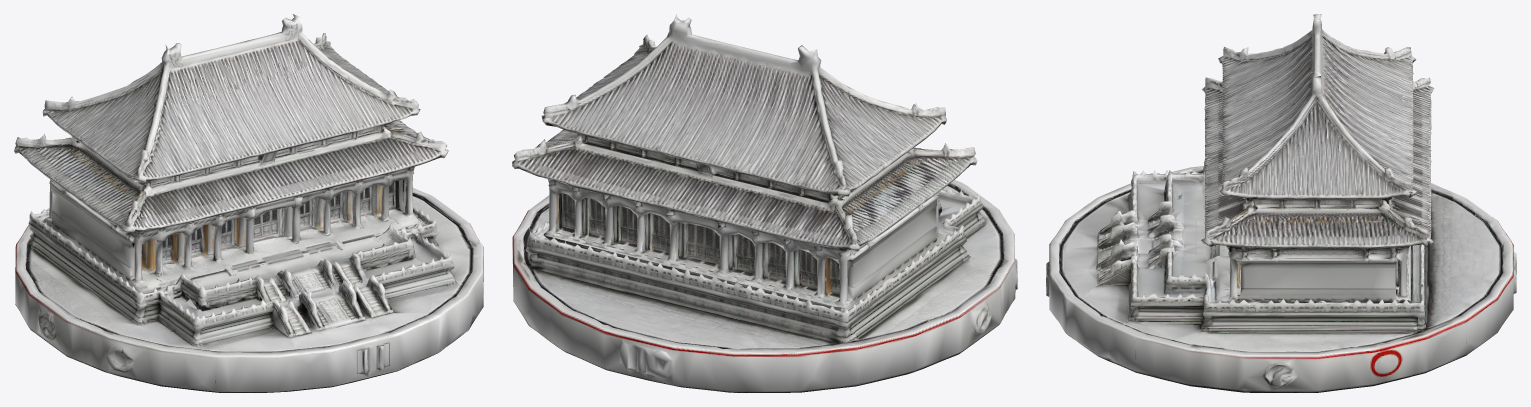
Rendered from forbidden_city_silver.glb.
The picture shows the model from 3 angles, left to right: view 1: azimuth 30°, elevation 25°; view 2: azimuth 150°, elevation 25°; view 3: azimuth 270°, elevation 25°; orthographic projection. The views are drawn at different scales.
Parts seen in each view (by area): view 1: Mesh_0; view 2: Mesh_0; view 3: Mesh_0.
Part boxes in pixels (left/top/right/bottom): Mesh_0: left=14, top=14, right=483, bottom=392; Mesh_0: left=512, top=14, right=1017, bottom=392; Mesh_0: left=1046, top=14, right=1516, bottom=392.
Size of the model in its own units: 1.91 by 1.14 by 1.91.
1 material, 1 textured.
